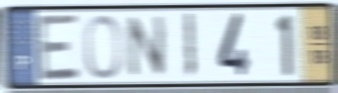1: (274, 11, 295, 79)
4: (215, 10, 255, 82)
E: (35, 11, 83, 83)
I: (182, 11, 198, 82)
N: (126, 13, 168, 80)
O: (82, 13, 124, 82)
